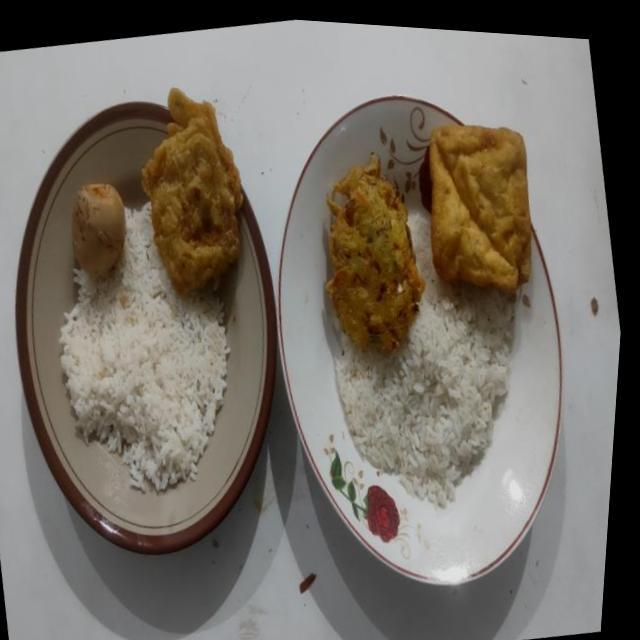nasi_putih: (334, 211, 513, 507), (58, 206, 230, 492)
tahu_goreng: (428, 124, 531, 290)
